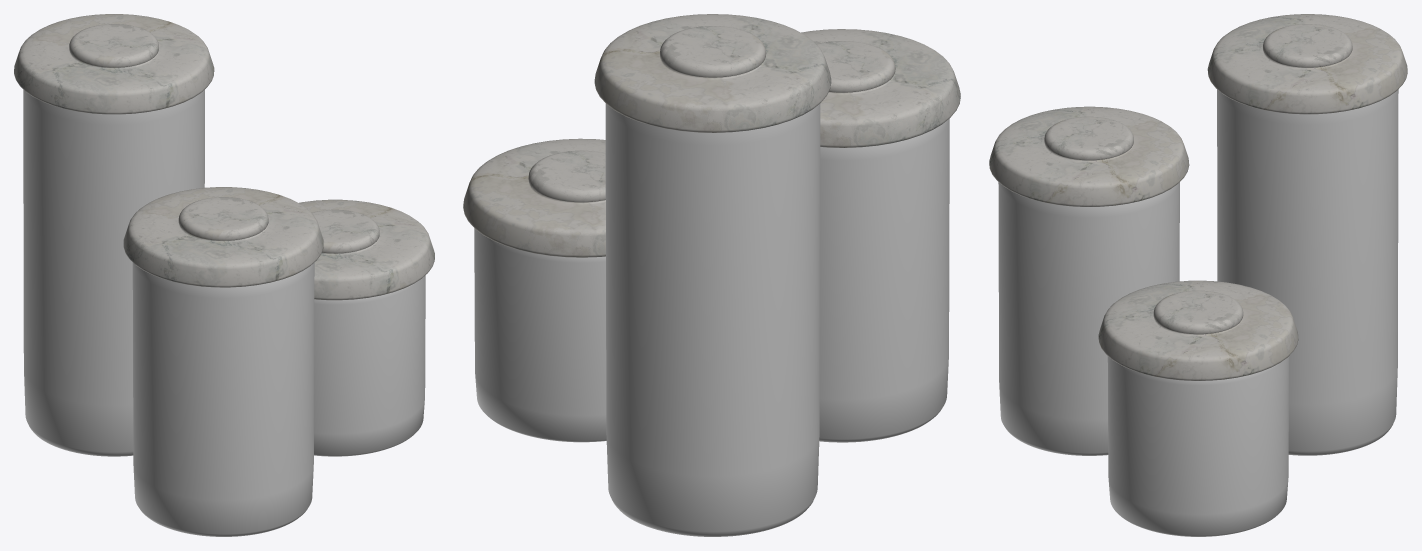
File: glass_jar_with_marble_lid_2.0.glb
3 views of the same model, side by side, from view 1: azimuth 30°, elevation 25°; view 2: azimuth 150°, elevation 25°; view 3: azimuth 270°, elevation 25° (orthographic). The views are drawn at different scales.
Visible parts, largest first — view 1: Cylinder.003, Cylinder.006, Cylinder.009, Cylinder.001, Cylinder.005, Cylinder.010; view 2: Cylinder.006, Cylinder.003, Cylinder.009, Cylinder.001, Cylinder.010, Cylinder.005; view 3: Cylinder.006, Cylinder.003, Cylinder.009, Cylinder.001, Cylinder.010, Cylinder.005.
Part boxes in pixels (x1=…): Cylinder.003: x1=132, y1=262, x2=314, y2=536; Cylinder.006: x1=23, y1=89, x2=204, y2=456; Cylinder.009: x1=314, y1=275, x2=425, y2=456; Cylinder.001: x1=14, y1=14, x2=214, y2=114; Cylinder.005: x1=123, y1=187, x2=323, y2=287; Cylinder.010: x1=299, y1=199, x2=434, y2=300; Cylinder.006: x1=605, y1=103, x2=820, y2=536; Cylinder.003: x1=819, y1=119, x2=949, y2=442; Cylinder.009: x1=474, y1=228, x2=606, y2=442; Cylinder.001: x1=594, y1=14, x2=831, y2=132; Cylinder.010: x1=463, y1=138, x2=605, y2=257; Cylinder.005: x1=801, y1=29, x2=960, y2=147; Cylinder.006: x1=1217, y1=89, x2=1398, y2=455; Cylinder.003: x1=998, y1=182, x2=1179, y2=455; Cylinder.009: x1=1107, y1=356, x2=1289, y2=536; Cylinder.001: x1=1207, y1=14, x2=1407, y2=114; Cylinder.010: x1=1098, y1=280, x2=1298, y2=380; Cylinder.005: x1=989, y1=106, x2=1189, y2=206.
Size of the model in its own units: 7.16 by 7.67 by 7.66.
3 materials, 1 textured.
